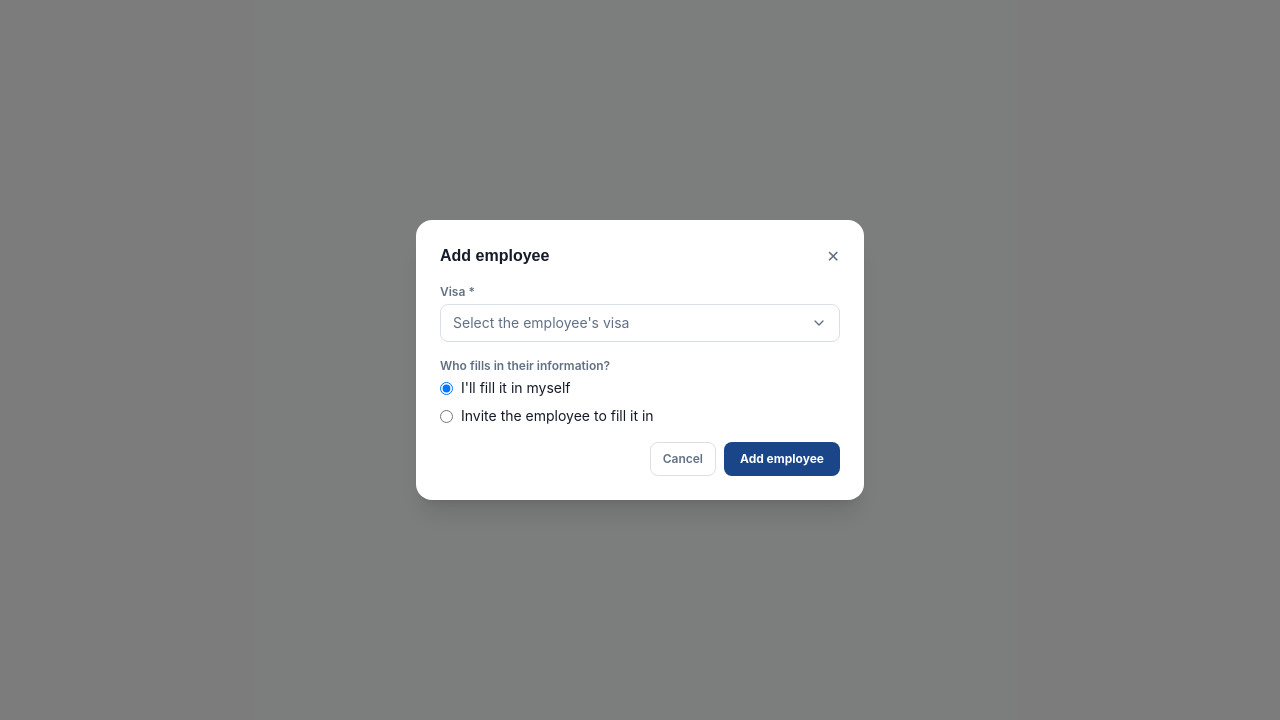
Test: client portal Add employee - the same visa dropdown as Admin › asks for a visa before anything is created
The width and height of the screenshot is (1280, 720).
Step 1. Click the button "Add employee" → (782, 459), box [724,442,840,476]
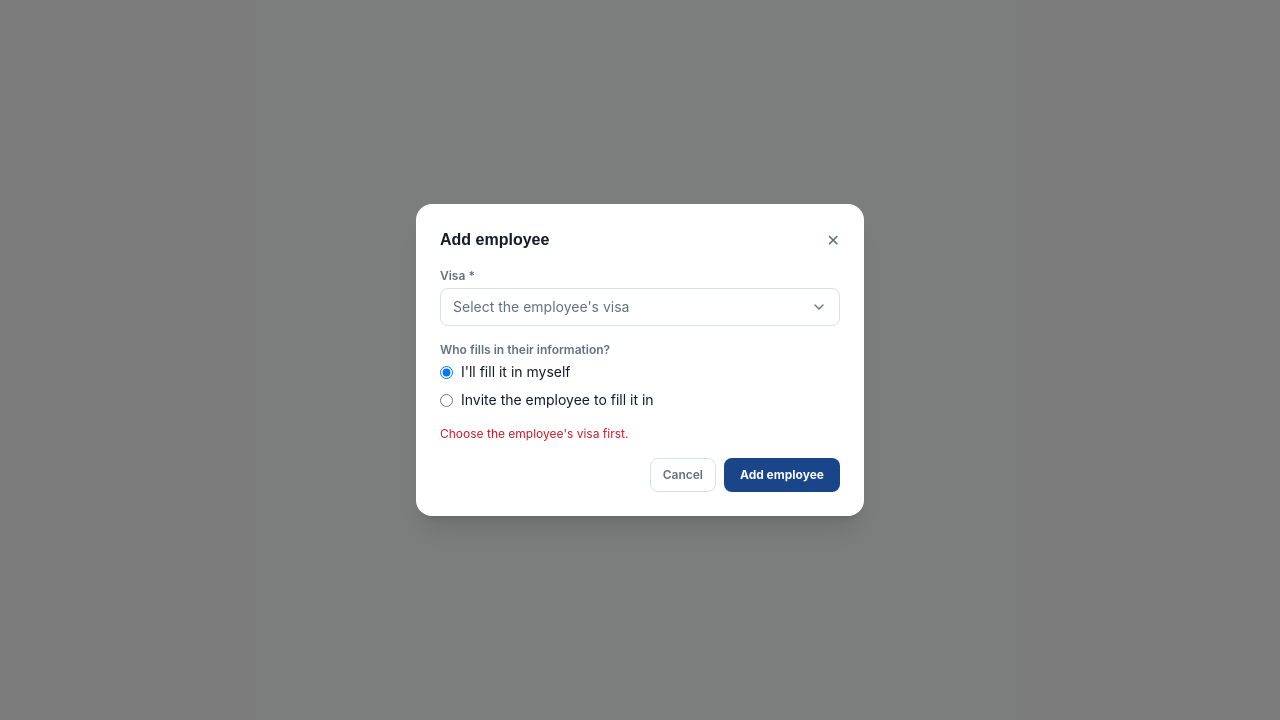
expect the text "Choose the employee's visa first." is shown: met, box [440,426,628,441]
